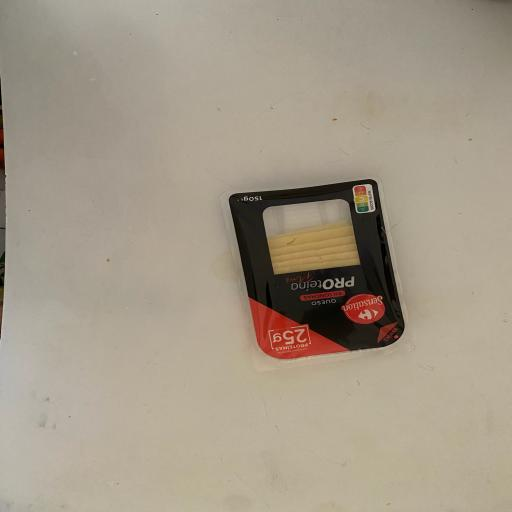cheese: (190, 155, 423, 384)
